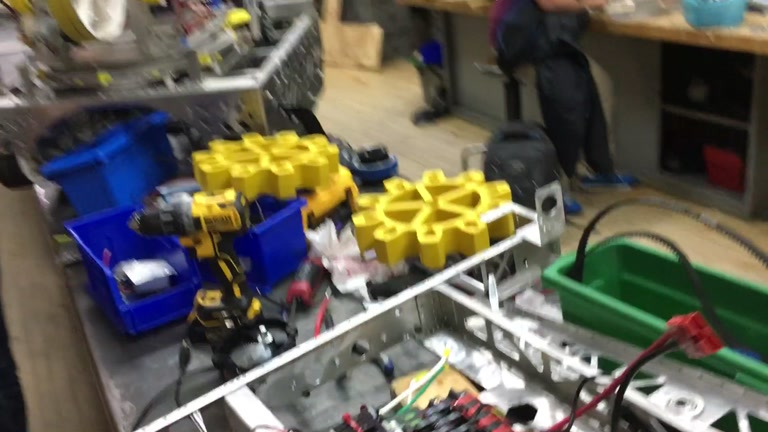gear: (351, 170, 514, 269), (191, 129, 342, 199)
